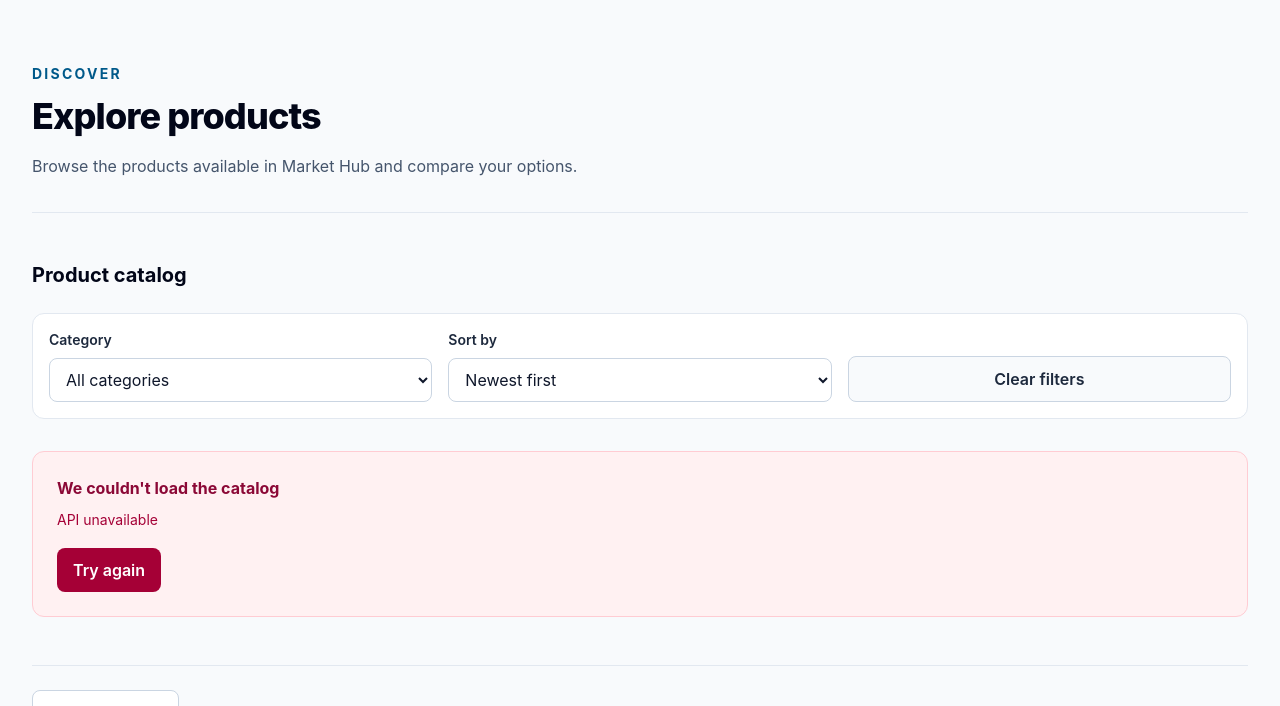
it: ProductsPage › shows an error and retries when the product request fails
Check: the message shows "API unavailable", box 57,511 -> 158,528
Click the button "Try again": (109,570) 57,548 -> 161,592
(page scrolled)
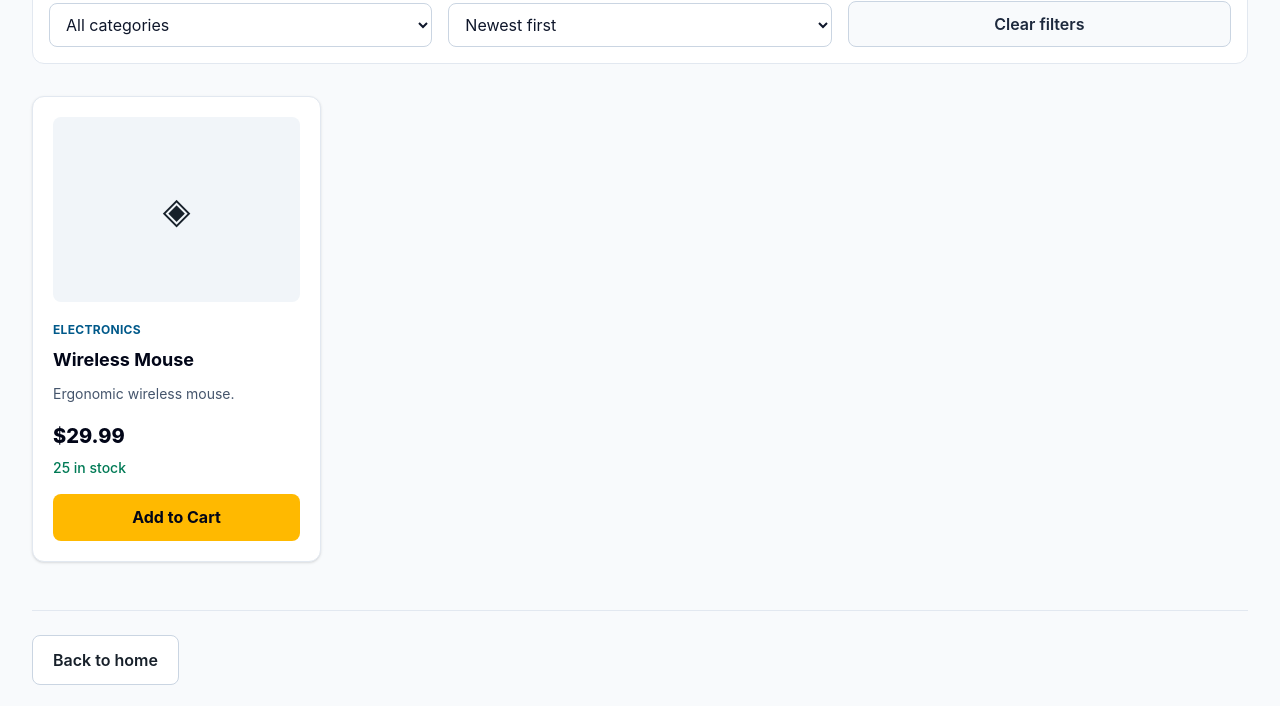
Check: the heading "Wireless Mouse" is shown, box 53,349 -> 194,370
